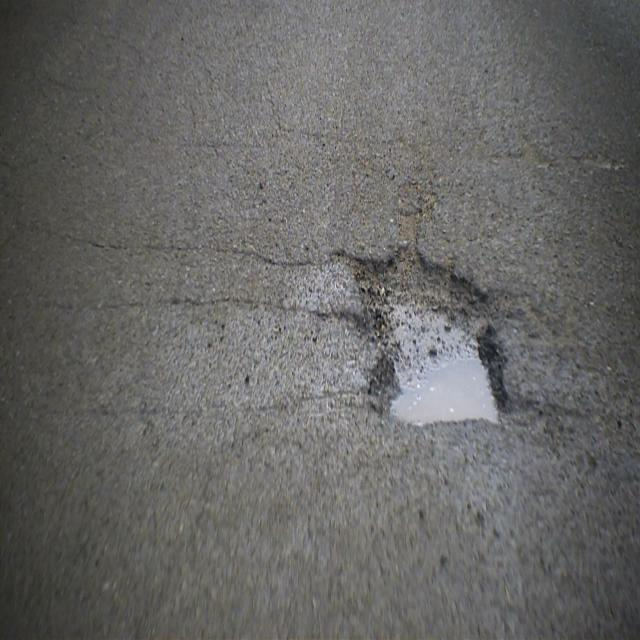Pothole: (336, 232, 536, 453)
